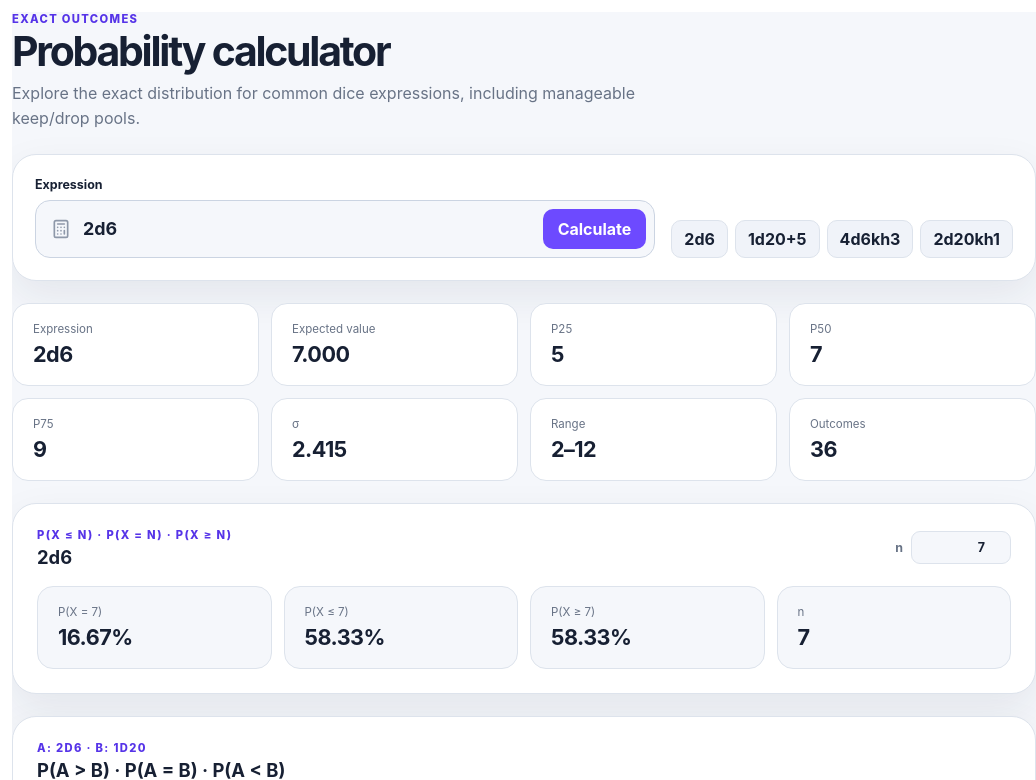
Test: ProbabilityPanel localization › formats large finite outcome counts with English grouping
Replace the text in the field labelled "Expression" with "6d10" at [307, 229], box [81, 218, 533, 240]
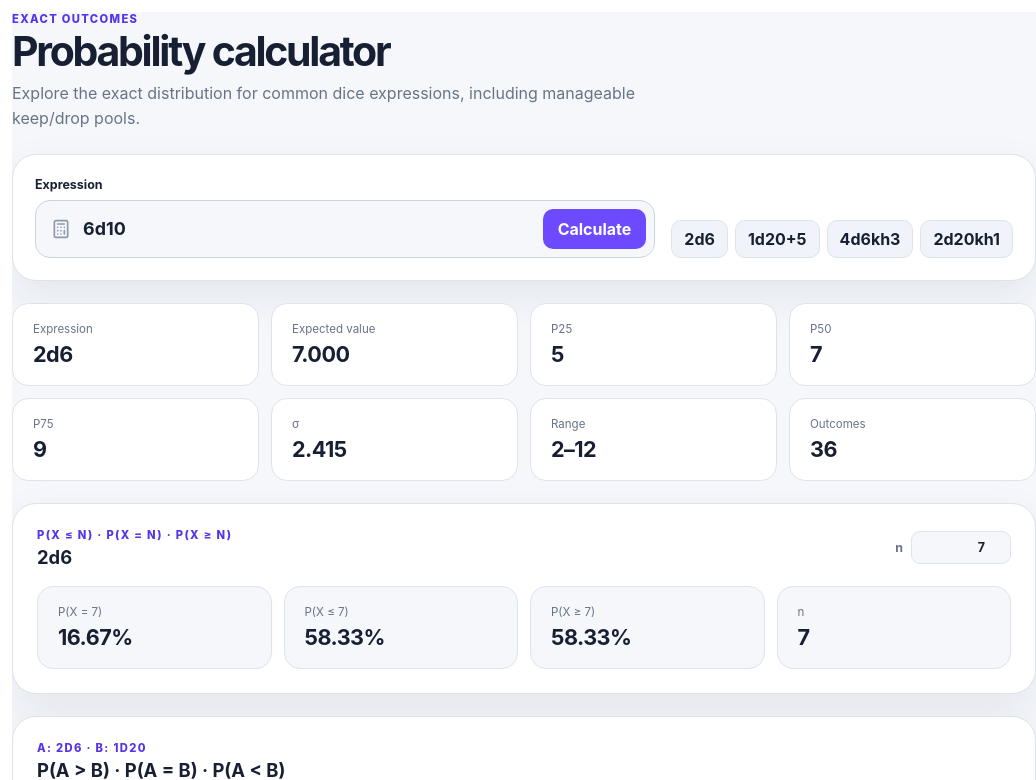
Click the button "Calculate".
click(594, 229)  # box [543, 209, 646, 249]
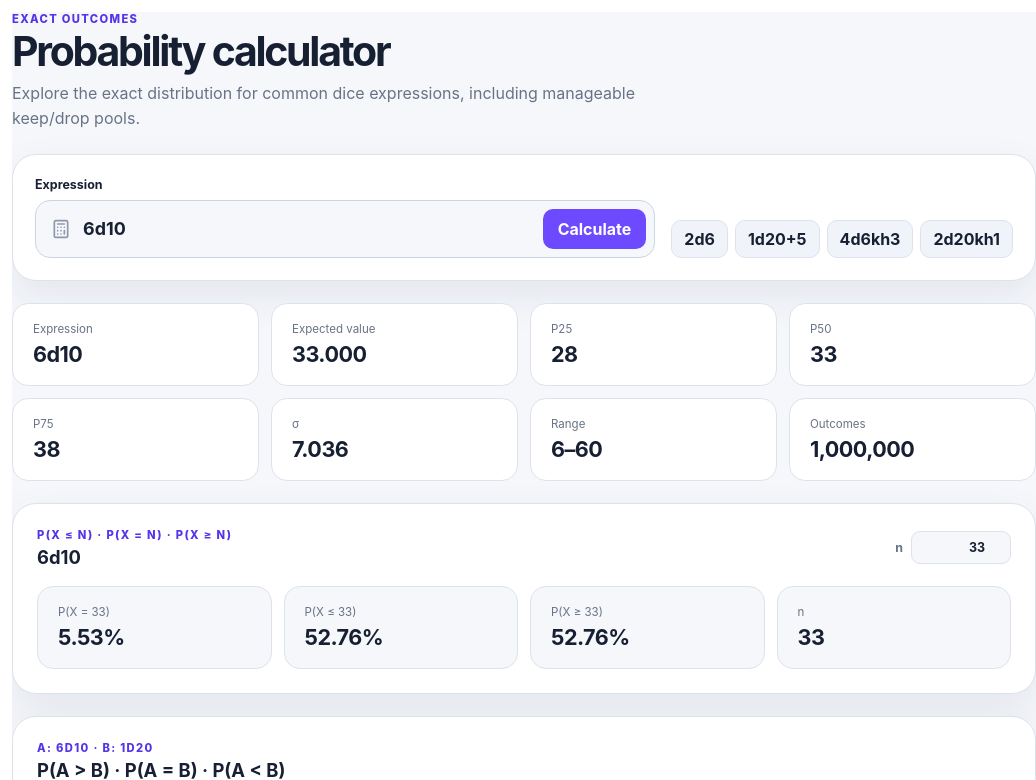
Result: the text "1,000,000" is shown at [810, 436, 914, 462]
Result: the text "33.000" is shown at [292, 341, 366, 367]
